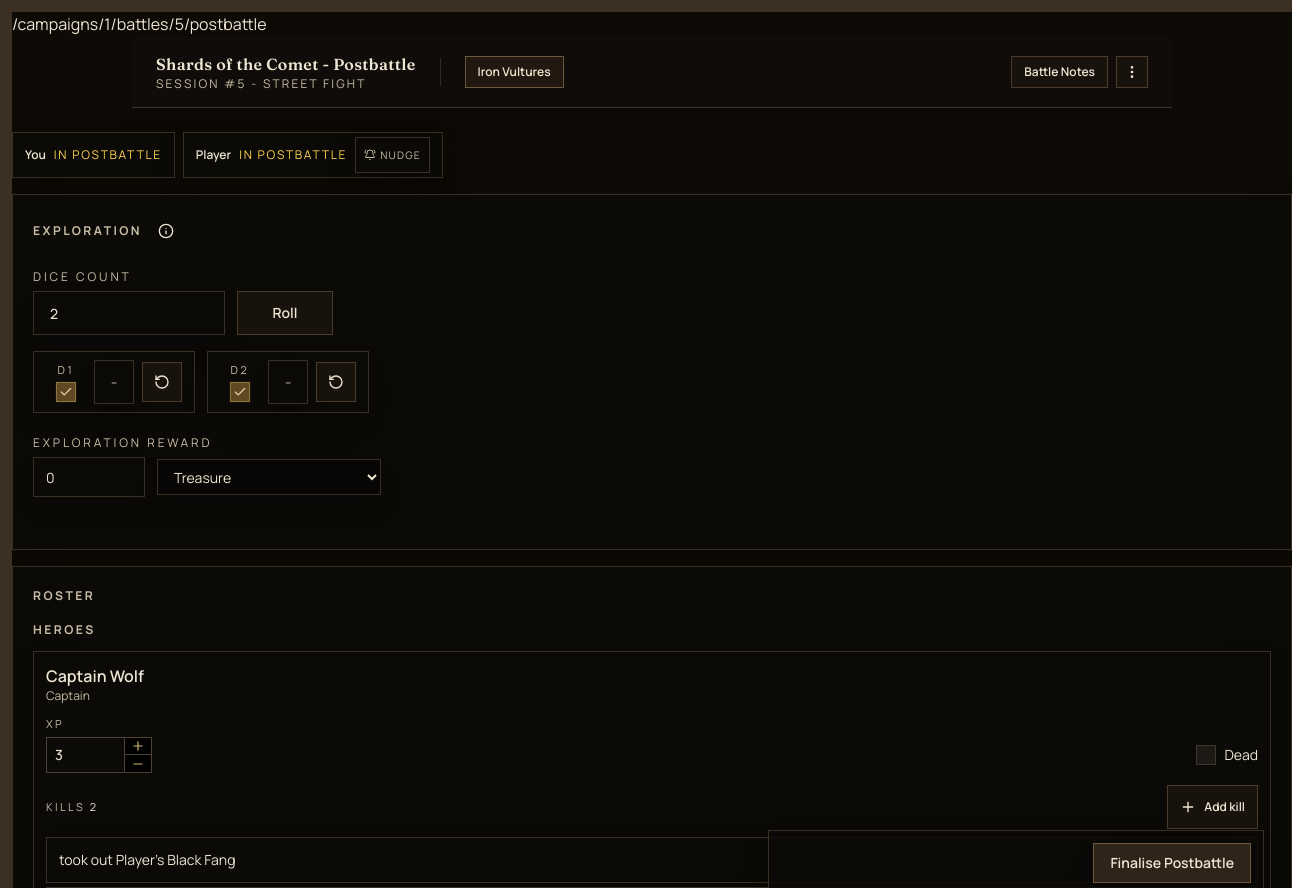
Test: BattlePostbattle requests › shows the wait the server answers when a nudge comes too soon (BATL-NEW-08)
Expected: the text "Captain Wolf" is shown, [46,664,144,688]
Click the button with aria-label "Nudge Player": [393, 155] box [355,137,430,173]
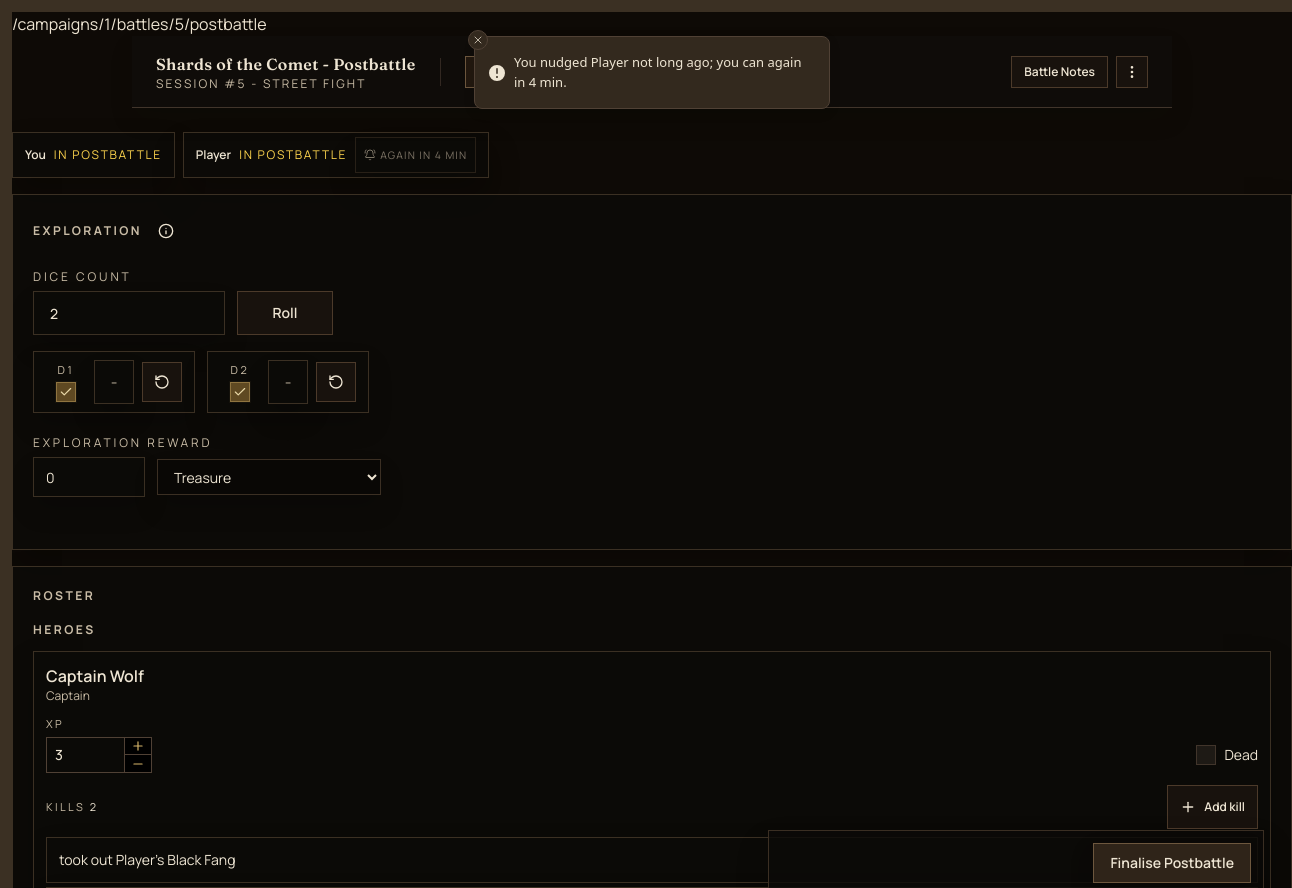
Now the button with aria-label "Player nudged; again in 4 min" is disabled, box [355,137,476,173]
Now the text "You nudged Player not long ago; you can again in 4 min." is shown, box [514,53,813,92]
